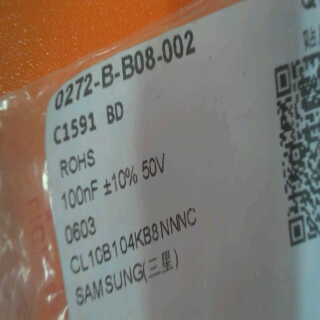100nF: (48, 174, 101, 216)
